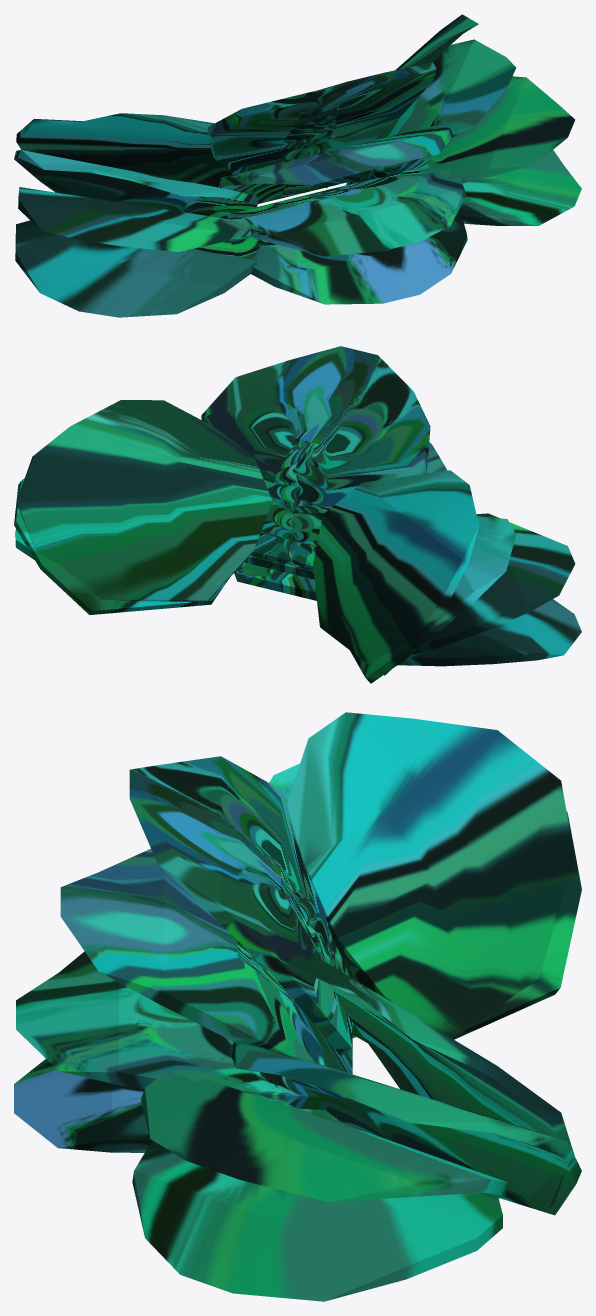
The model's file is Deco_Coral_Leaves.FBX.
3 renders of one model, top to bottom at view 1: azimuth 30°, elevation 25°; view 2: azimuth 150°, elevation 25°; view 3: azimuth 270°, elevation 25°, orthographic. The views are drawn at different scales.
Parts seen in each view (by area): view 1: Box001; view 2: Box001; view 3: Box001.
Boxes of the visible parts, box(x1,y1,x2,y2) form: Box001: box(14, 14, 581, 317); Box001: box(14, 346, 581, 683); Box001: box(14, 712, 581, 1301).
Size of the model in its own units: 47.91 by 18.13 by 27.98.
